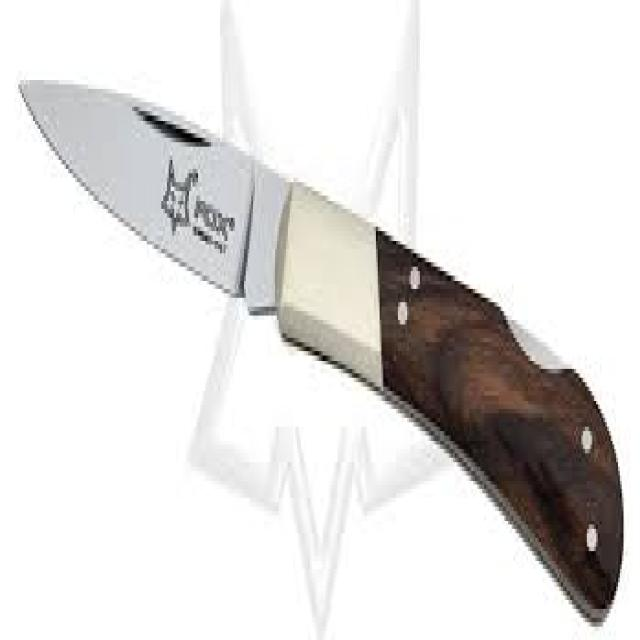knives: (17, 62, 626, 631)
